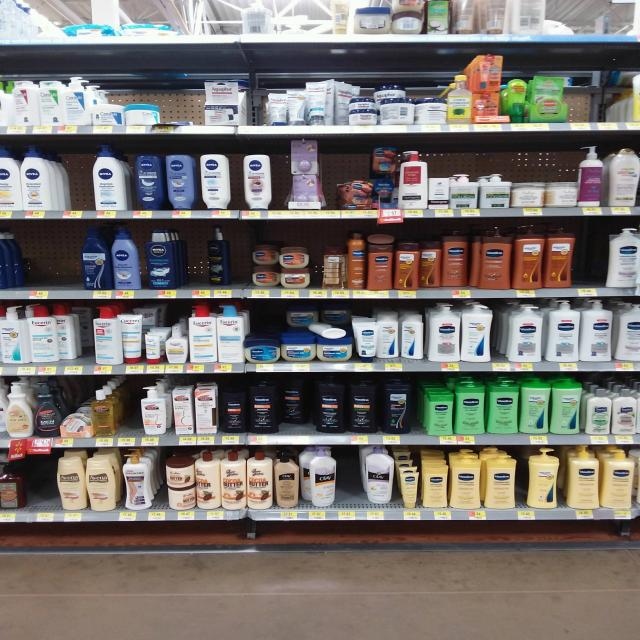void: (24, 225, 76, 291), (56, 143, 91, 211), (164, 79, 202, 124), (26, 458, 56, 511), (182, 227, 206, 290), (580, 221, 602, 285), (323, 149, 344, 212), (342, 449, 363, 504), (235, 226, 250, 286)
